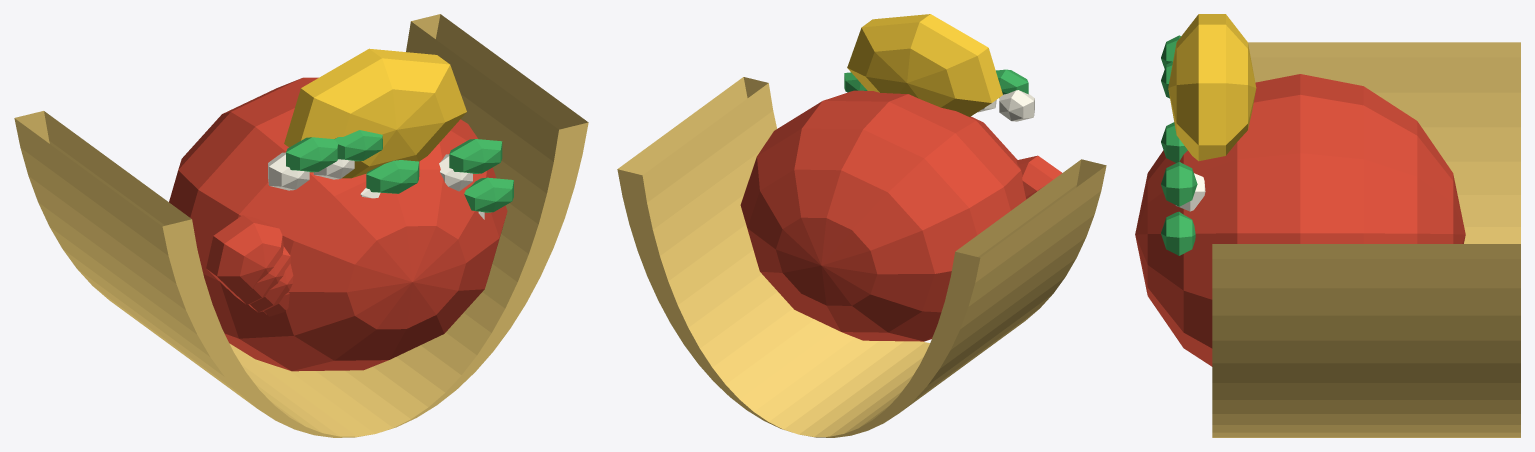
File: taco_isla_r4.glb
The picture shows the model from 3 angles, left to right: view 1: azimuth 30°, elevation 25°; view 2: azimuth 150°, elevation 25°; view 3: azimuth 270°, elevation 25°; orthographic projection. The views are drawn at different scales.
Parts seen in each view (by area): view 1: Modelo; view 2: Modelo; view 3: Modelo.
Part boxes in pixels (<box>): Modelo: <box>14,14,588,437</box>; Modelo: <box>617,14,1106,437</box>; Modelo: <box>1135,14,1520,437</box>.
Size of the model in its own units: 1.39 by 1.19 by 1.05.
